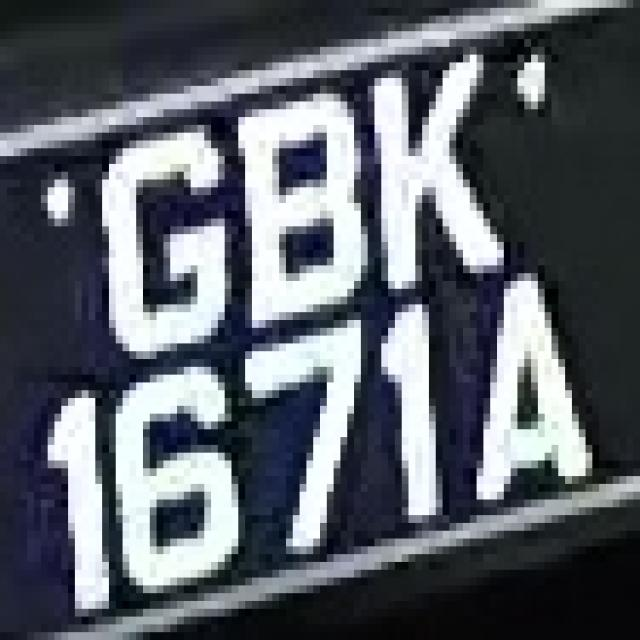1: (34, 336, 123, 624), (375, 273, 456, 554)
6: (122, 351, 258, 601)
7: (232, 304, 374, 578)
A: (450, 226, 600, 538)
B: (198, 62, 368, 328)
G: (75, 94, 245, 390)
K: (361, 47, 490, 304)
